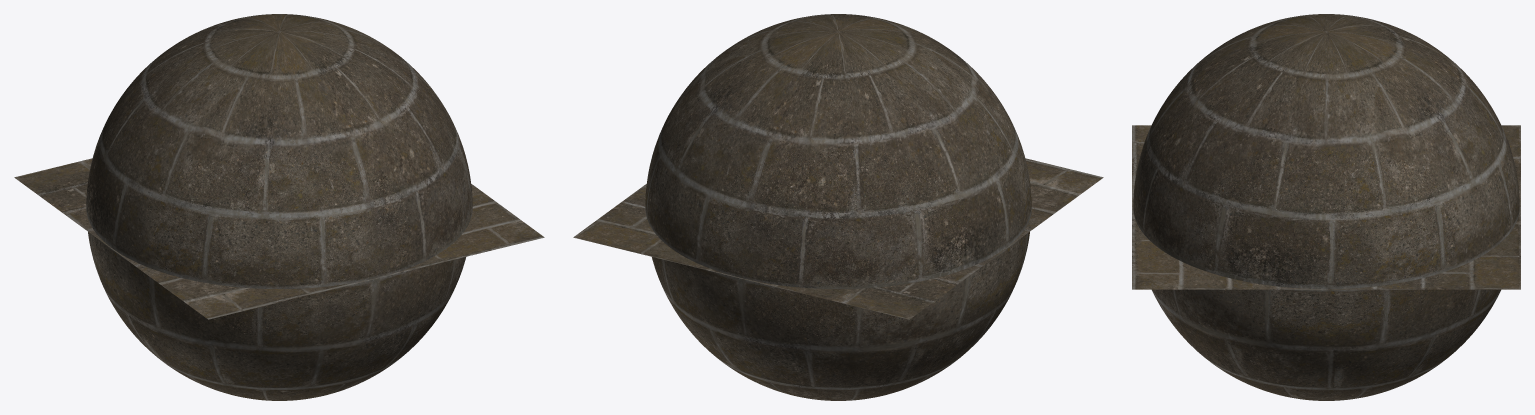
The model's file is stone_wall_05_2k.fbx.
3 views of the same model, side by side, from view 1: azimuth 30°, elevation 25°; view 2: azimuth 150°, elevation 25°; view 3: azimuth 270°, elevation 25° (orthographic).
Parts seen in each view (by area): view 1: Sphere, Plane; view 2: Sphere, Plane; view 3: Sphere, Plane.
Part boxes in pixels (left/top/right/bottom): Sphere: left=86, top=14, right=472, bottom=400; Plane: left=14, top=158, right=544, bottom=319; Sphere: left=645, top=14, right=1031, bottom=400; Plane: left=573, top=158, right=1103, bottom=319; Sphere: left=1133, top=14, right=1519, bottom=400; Plane: left=1132, top=125, right=1520, bottom=289.
Bounding box in the file's own units: 206 × 205 × 206.
